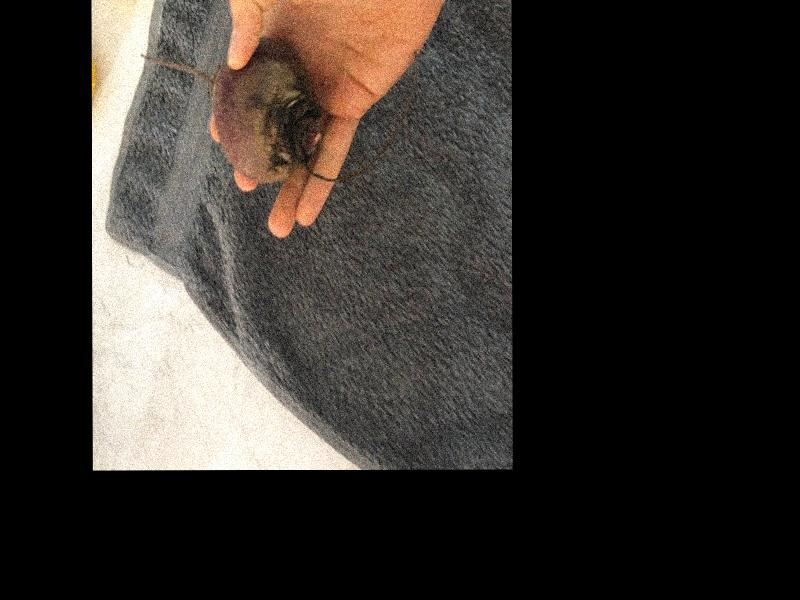Beet: (141, 37, 327, 181)
